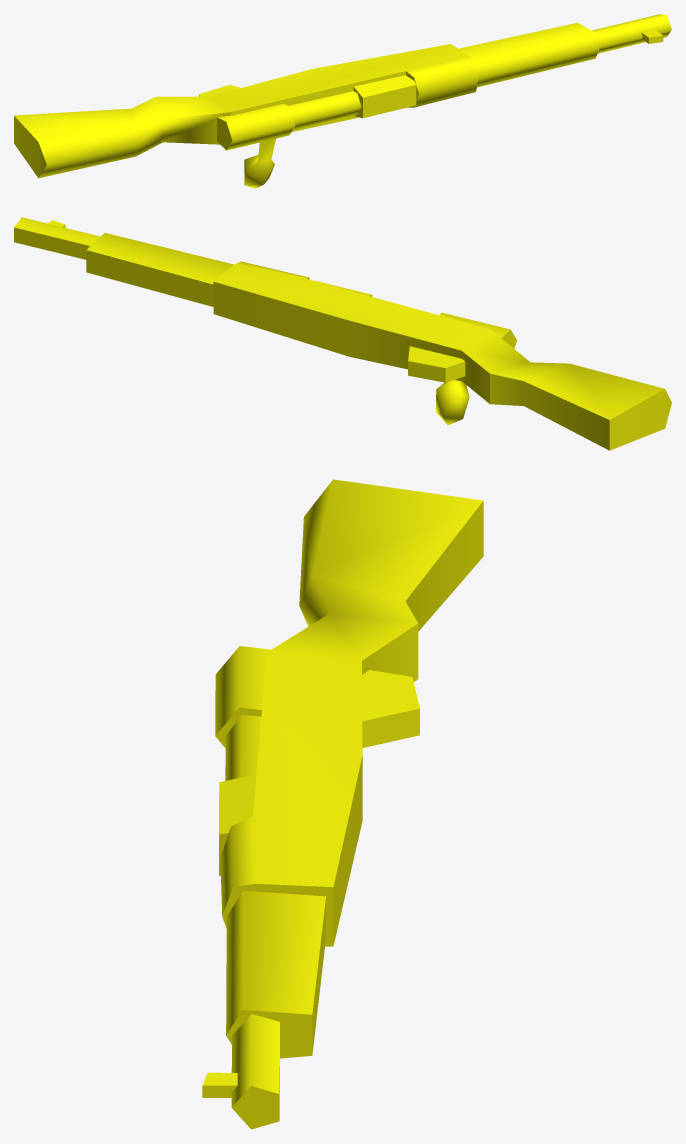
Rendered from weapon_arisaka.glb.
3 renders of one model, top to bottom at view 1: azimuth 30°, elevation 25°; view 2: azimuth 150°, elevation 25°; view 3: azimuth 270°, elevation 25°, orthographic. The views are drawn at different scales.
Visible parts, largest first — view 1: weapon_arisaka; view 2: weapon_arisaka; view 3: weapon_arisaka.
Part boxes in pixels (x1,y1,x2,y2): weapon_arisaka: (14, 14, 671, 188); weapon_arisaka: (14, 217, 671, 450); weapon_arisaka: (202, 479, 483, 1129).
Size of the model in its own units: 1.75 by 0.2529 by 0.3514.
1 material, 1 textured.
